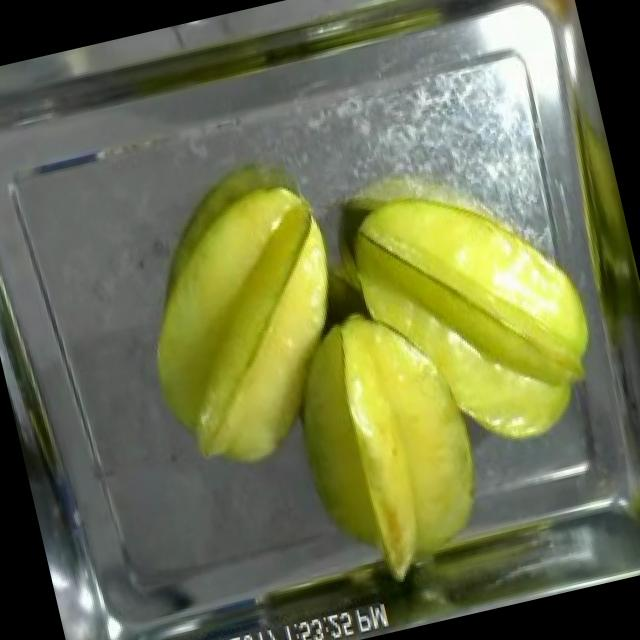fruit: (324, 146, 631, 486), (252, 270, 527, 615), (108, 160, 384, 492)
